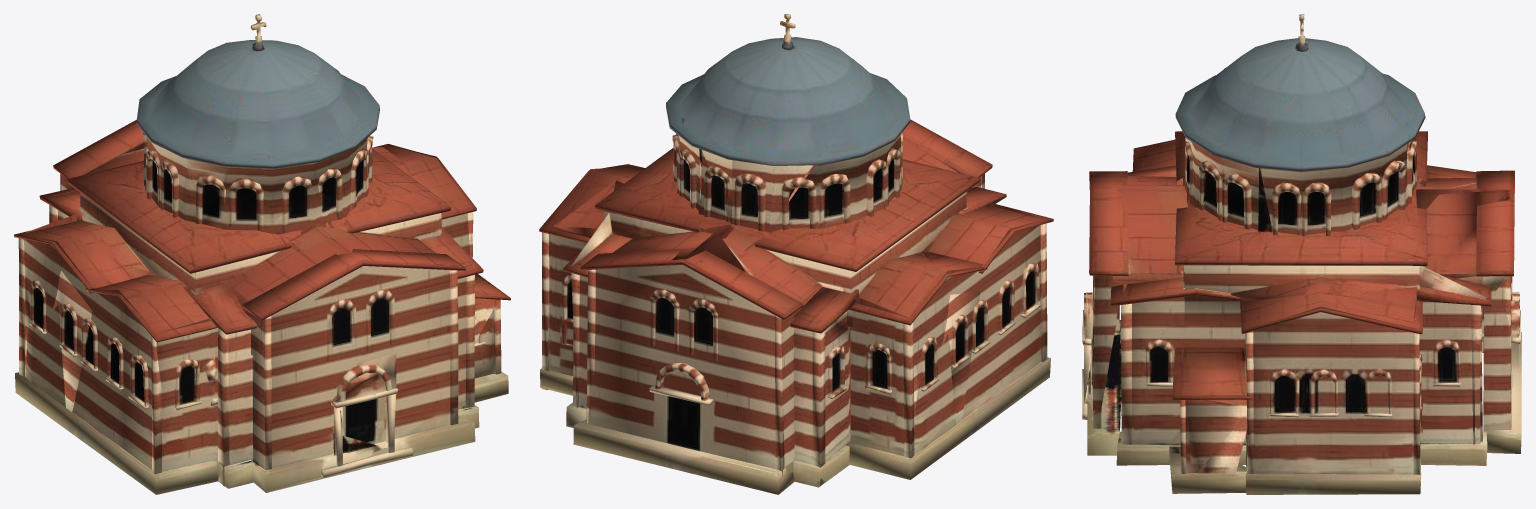
Rendered from dome-church.glb.
3 renders of one model, left to right at view 1: azimuth 30°, elevation 25°; view 2: azimuth 150°, elevation 25°; view 3: azimuth 270°, elevation 25°, orthographic. The views are drawn at different scales.
Parts seen in each view (by area): view 1: mesh_node; view 2: mesh_node; view 3: mesh_node.
Part boxes in pixels (x1,y1,x2,y2): mesh_node: (14, 14, 510, 494); mesh_node: (539, 14, 1053, 494); mesh_node: (1082, 14, 1521, 494).
Size of the model in its own units: 13.39 by 13 by 13.39.
Materials: 1 (1 with a texture image).
